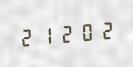one: (37, 22, 55, 47)
two: (56, 20, 74, 46), (18, 24, 36, 49), (94, 17, 112, 42)
zero: (75, 19, 93, 44)
